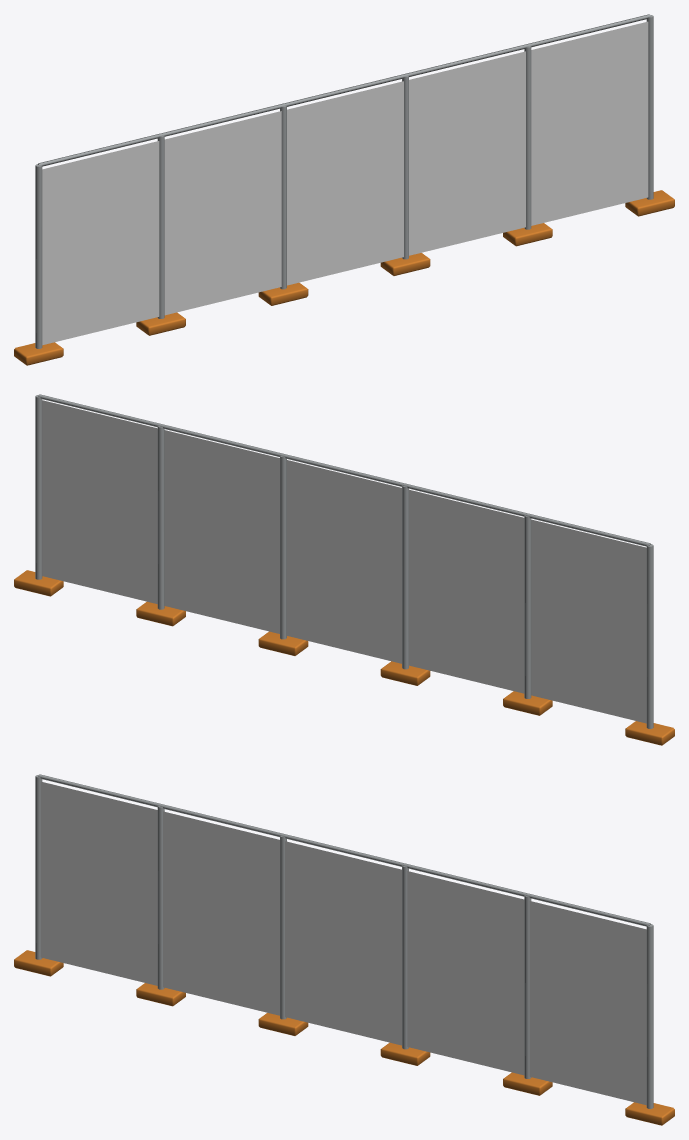
File: SiteFenceMIA.fbx
The picture shows the model from 3 angles, top to bottom: view 1: azimuth 30°, elevation 25°; view 2: azimuth 150°, elevation 25°; view 3: azimuth 330°, elevation 25°; orthographic projection.
Visible parts, largest first — view 1: SiteFenceMIA; view 2: SiteFenceMIA; view 3: SiteFenceMIA.
Boxes of the visible parts, left/top/right/bottom form: SiteFenceMIA: left=14, top=14, right=674, bottom=365; SiteFenceMIA: left=14, top=394, right=674, bottom=745; SiteFenceMIA: left=14, top=774, right=674, bottom=1125.
Bounding box in the file's own units: 8.5 × 2.42 × 0.3.
